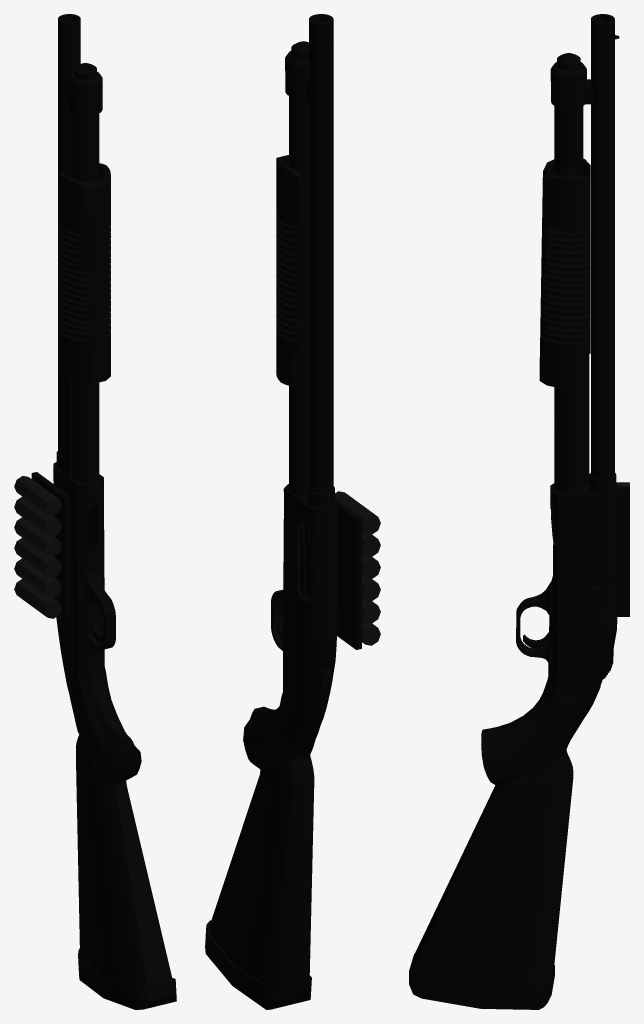
File: M590__Sidesaddle_Shotgun.fbx
3 renders of one model, left to right at view 1: azimuth 30°, elevation 25°; view 2: azimuth 210°, elevation 25°; view 3: azimuth 270°, elevation 25°, orthographic. The views are drawn at different scales.
Parts seen in each view (by area): view 1: asset_M590.001; view 2: asset_M590.001; view 3: asset_M590.001.
Part boxes in pixels (x1,y1,x2,y2): asset_M590.001: [14, 14, 176, 1009]; asset_M590.001: [205, 14, 380, 1009]; asset_M590.001: [409, 14, 629, 1009].
Bounding box in the file's own units: 0.0447 × 0.6 × 0.1224.
